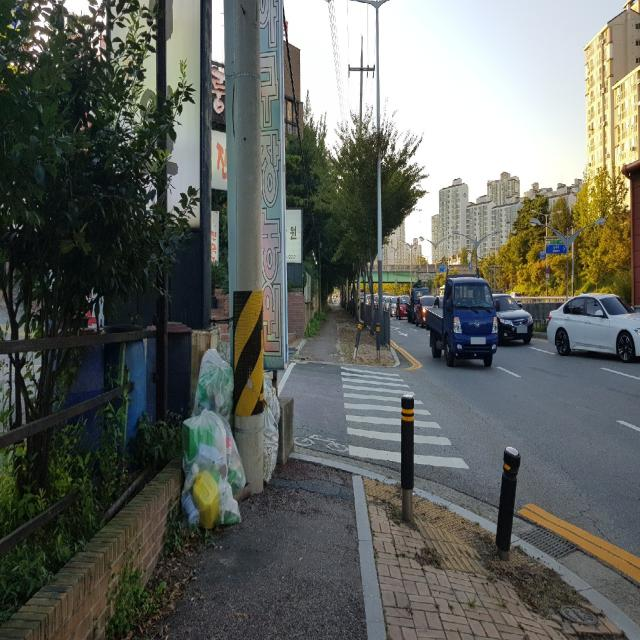횡단보도: (340, 366, 471, 470)
